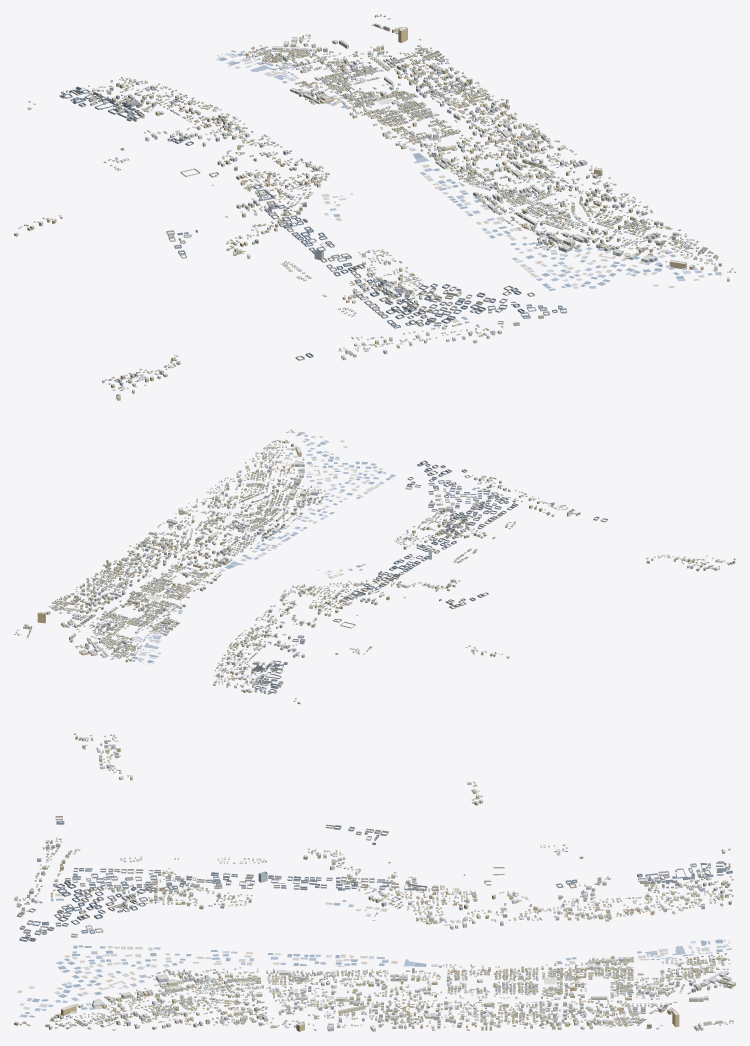
The picture shows the model from 3 angles, top to bottom: view 1: azimuth 30°, elevation 25°; view 2: azimuth 150°, elevation 25°; view 3: azimuth 270°, elevation 25°; orthographic projection. The views are drawn at different scales.
Visible parts, largest first — view 1: house, apartment, roof_zinc, factory, roof_flat; view 2: house, roof_zinc, apartment, factory, roof_flat; view 3: house, roof_zinc, apartment, roof_flat, factory.
Part boxes in pixels (x1,y1,x2,y2): house: [18, 14, 735, 396]; apartment: [14, 23, 729, 400]; roof_zinc: [19, 14, 735, 395]; factory: [59, 86, 566, 360]; roof_flat: [14, 23, 729, 397]; house: [14, 429, 735, 701]; roof_zinc: [14, 429, 735, 700]; apartment: [23, 432, 735, 704]; factory: [251, 460, 607, 694]; roof_flat: [23, 432, 734, 702]; house: [16, 733, 733, 1027]; roof_zinc: [16, 733, 733, 1026]; apartment: [14, 735, 735, 1031]; roof_flat: [14, 736, 735, 1030]; factory: [17, 816, 732, 941].
Bounding box in the file's own units: 1.4e+08 × 2825049 × 1.46e+08.
